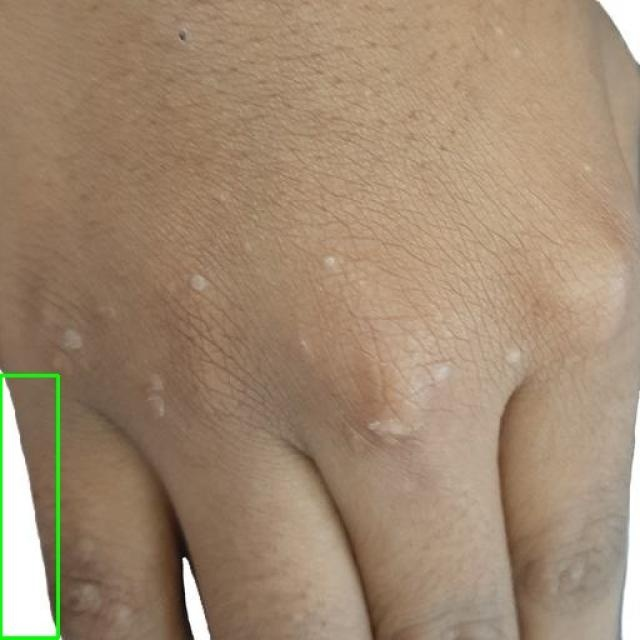Atopic Dermatitis: (0, 376, 59, 639)
